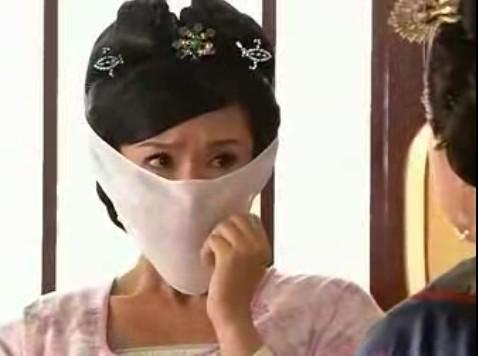OK: (136, 135, 259, 258)
